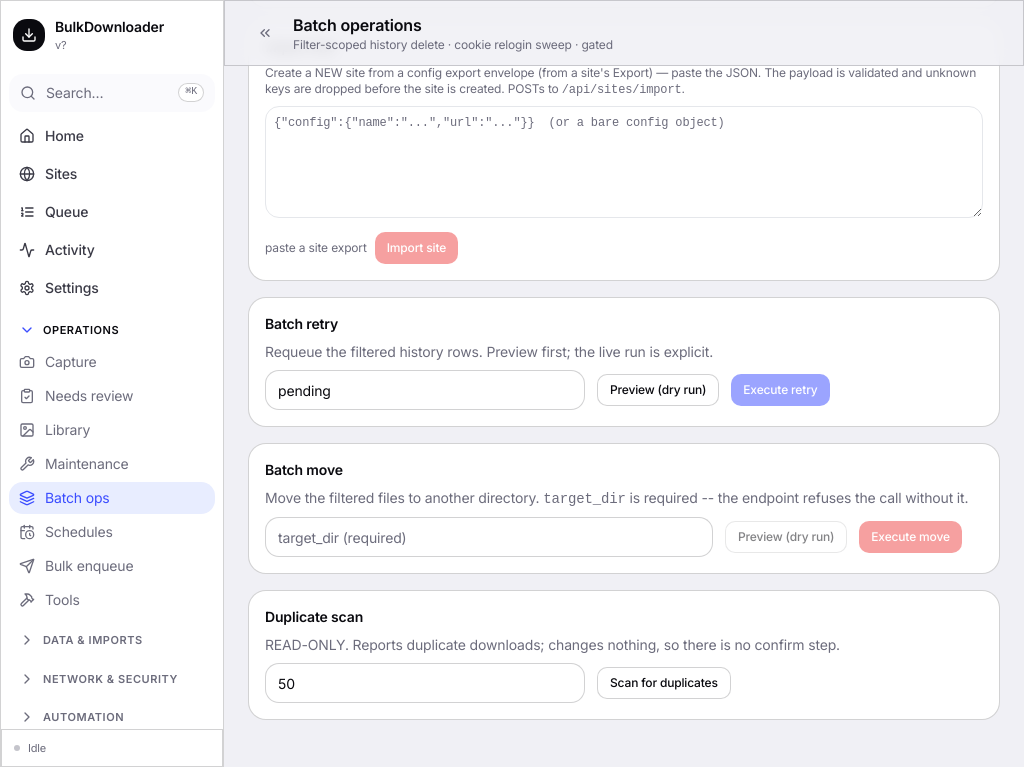
it: BatchOps executes only the previewed filter (dsq-batch-ops F4) › editing the filter after a retry preview disables Execute retry
This screenshot has width=1024, height=767.
(page scrolled)
Step 1. Click the button "Preview (dry run)" below "Batch retry" → (658, 390), box [597,374,719,406]
(page scrolled)
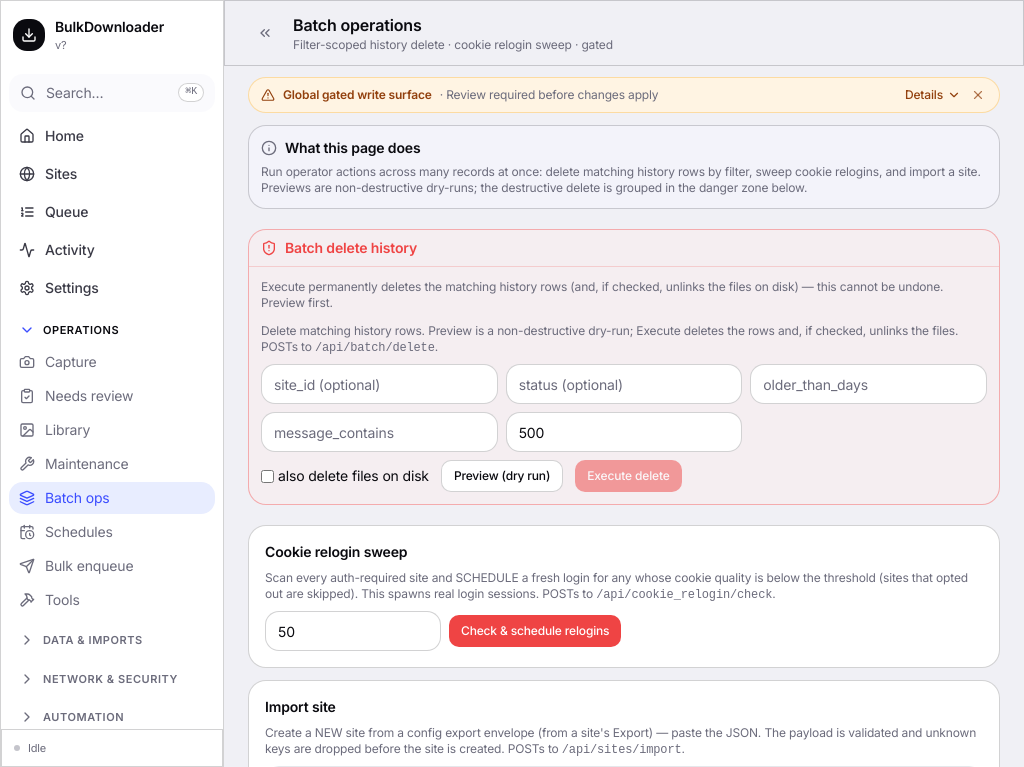
Step 2. Type "failed" into the field with placeholder "status (optional)" → (624, 384), box [506,364,742,404]
(page scrolled)
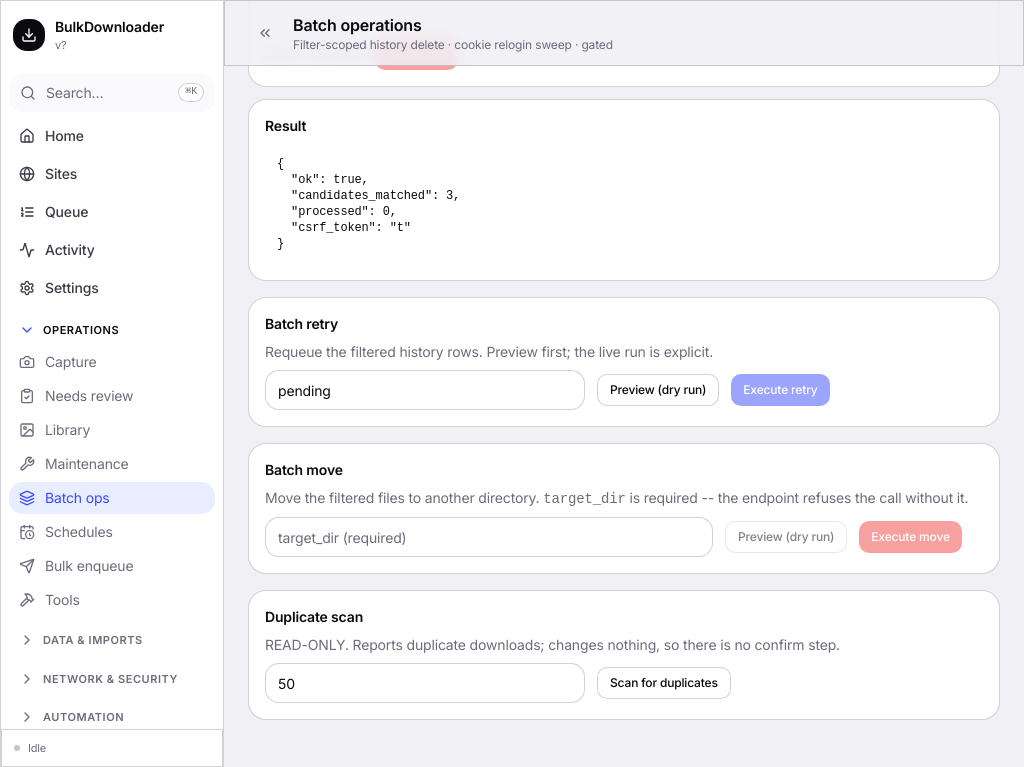
Result: the button "Execute retry" is disabled at [731,374,830,406]
